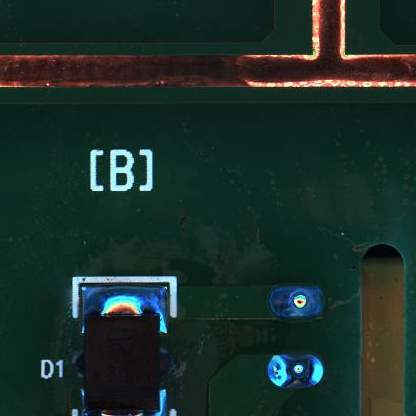spot: (267, 351, 324, 389), (268, 283, 325, 319)
